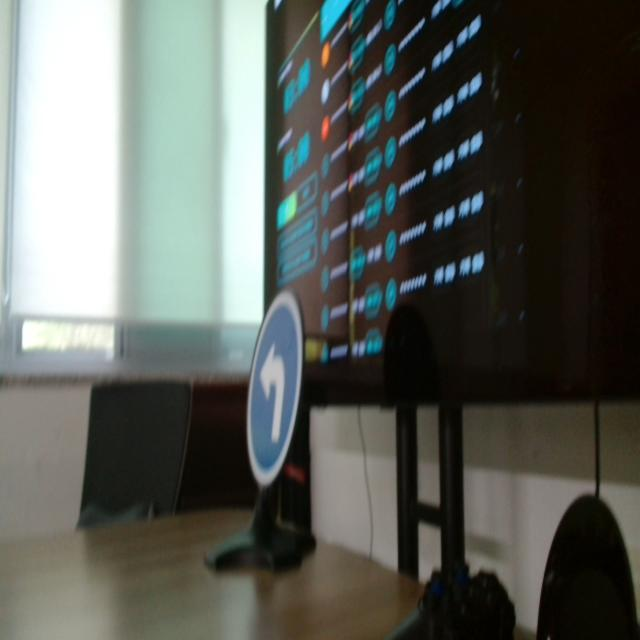left_direction: (244, 286, 306, 483)
